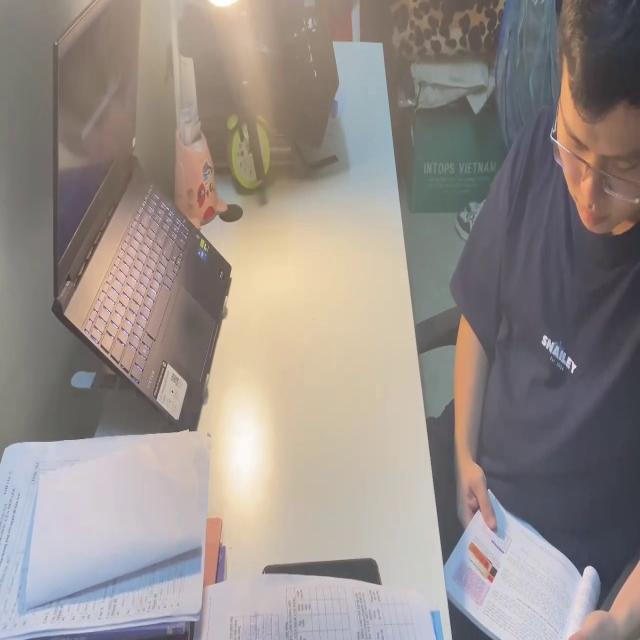book: (7, 440, 235, 640), (444, 477, 598, 640), (205, 579, 434, 640)
laptop: (49, 1, 238, 430)
phone: (264, 556, 380, 589)
